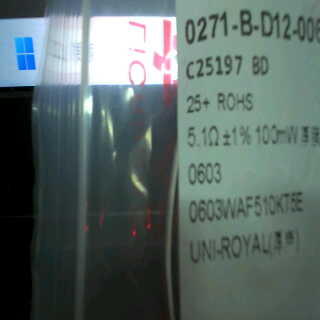5.1R: (185, 120, 221, 154)
